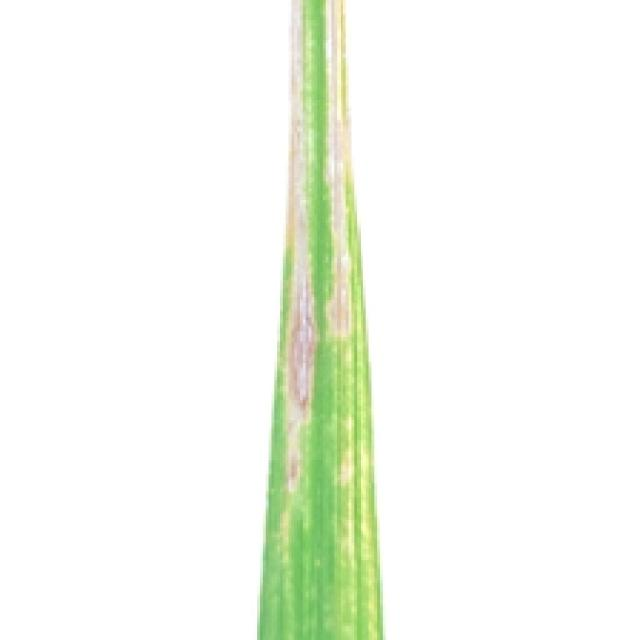Rice___Bacterial_Leaf_Blight: (256, 0, 383, 637)
